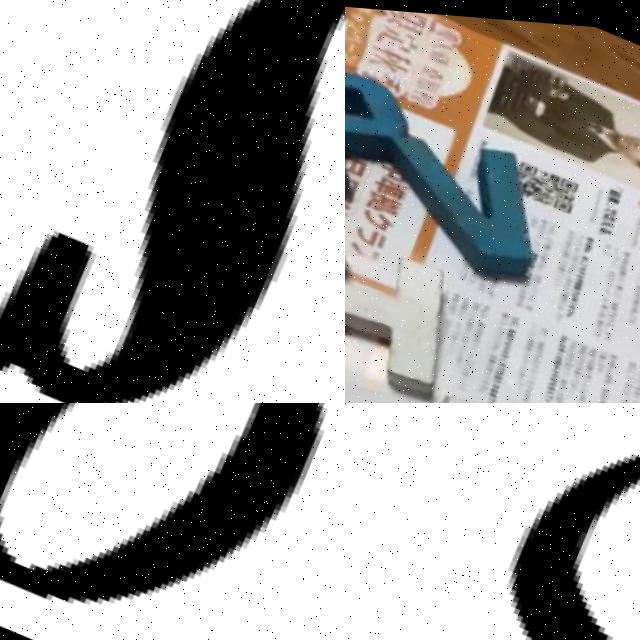6: (0, 403, 345, 640)
8: (345, 403, 640, 640)
H: (345, 206, 490, 402)
L: (345, 79, 377, 230)
P: (345, 38, 427, 203)
S: (0, 0, 345, 403)
V: (366, 109, 600, 299)
